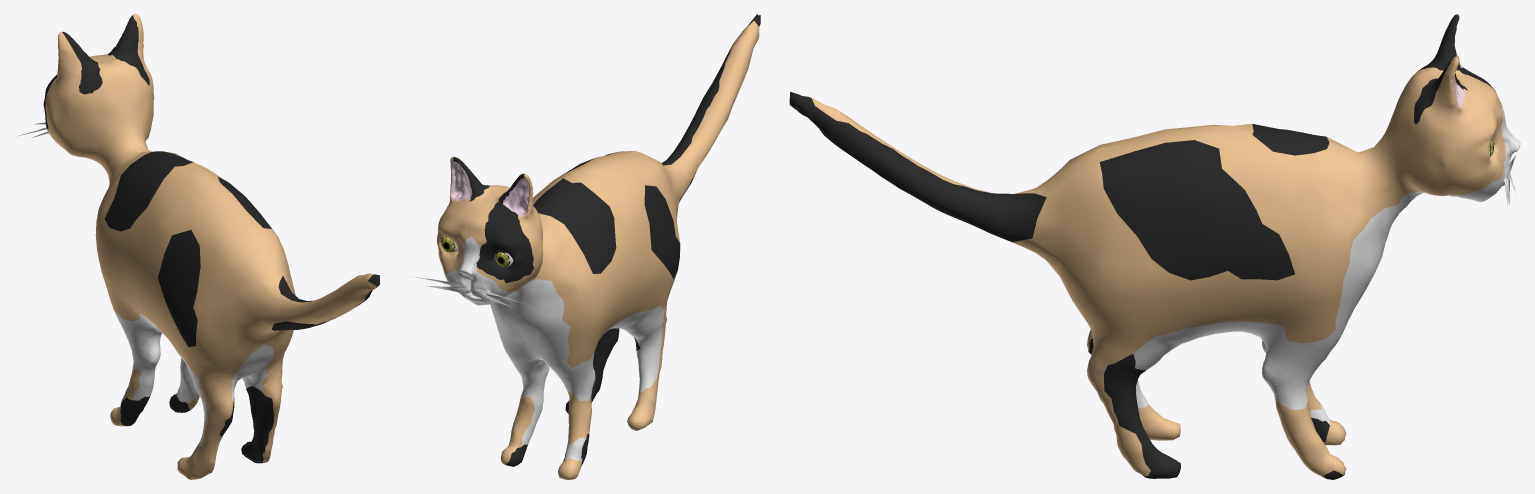
Rendered from PetRaceModel5.fbx.
The picture shows the model from 3 angles, left to right: view 1: azimuth 30°, elevation 25°; view 2: azimuth 150°, elevation 25°; view 3: azimuth 270°, elevation 25°; orthographic projection. The views are drawn at different scales.
Visible parts, largest first — view 1: Multicolor Cat; view 2: Multicolor Cat, Eyes.006; view 3: Multicolor Cat.
Boxes of the visible parts, x1=… form: Multicolor Cat: x1=17, y1=14, x2=379, y2=479; Multicolor Cat: x1=412, y1=14, x2=760, y2=479; Eyes.006: x1=440, y1=238, x2=513, y2=267; Multicolor Cat: x1=789, y1=14, x2=1520, y2=479.
Size of the model in its own units: 225 by 606 by 946.
